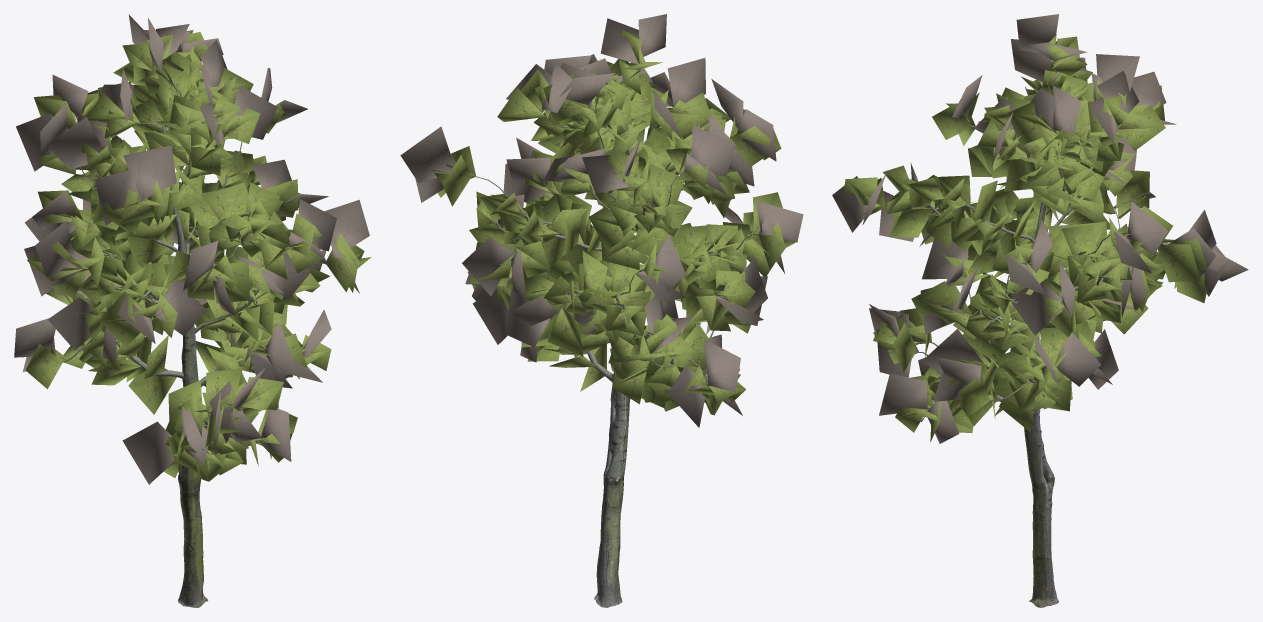
File: sm_Tree_03_01.fbx
3 views of the same model, side by side, from view 1: azimuth 30°, elevation 25°; view 2: azimuth 150°, elevation 25°; view 3: azimuth 270°, elevation 25° (orthographic). The views are drawn at different scales.
Parts seen in each view (by area): view 1: sm_Tree_03_01_LOD0; view 2: sm_Tree_03_01_LOD0; view 3: sm_Tree_03_01_LOD0.
Part boxes in pixels (bbox=[...]): sm_Tree_03_01_LOD0: bbox=[14, 14, 371, 607]; sm_Tree_03_01_LOD0: bbox=[400, 14, 803, 607]; sm_Tree_03_01_LOD0: bbox=[832, 14, 1248, 607].
Bounding box in the file's own units: 768 × 864 × 1306.
